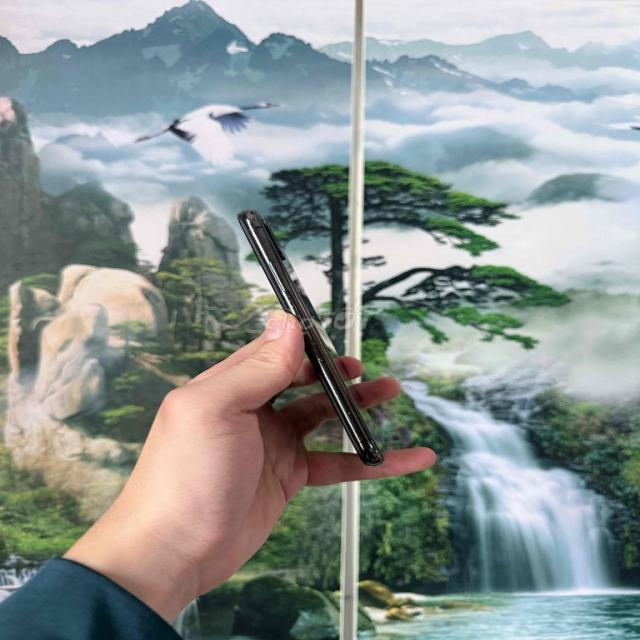gen_x_xs: (238, 210, 382, 465)
